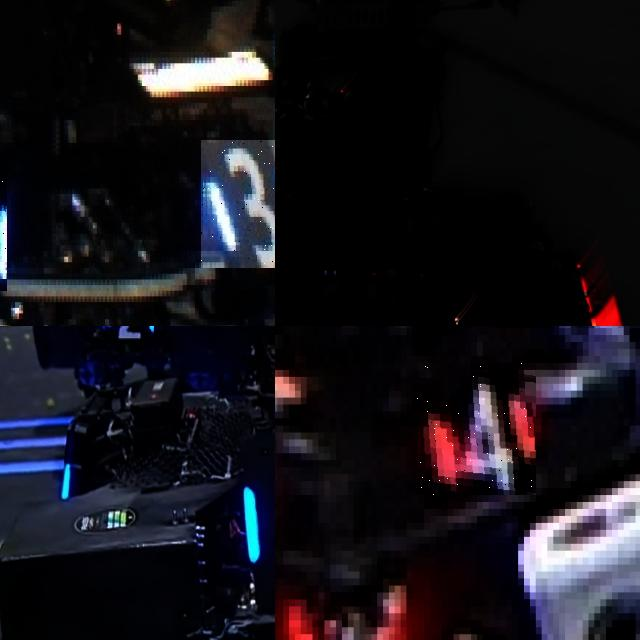B2: (106, 326, 156, 338)
B3: (201, 140, 275, 268)
B4: (242, 443, 275, 583)
R4: (412, 363, 536, 495)
